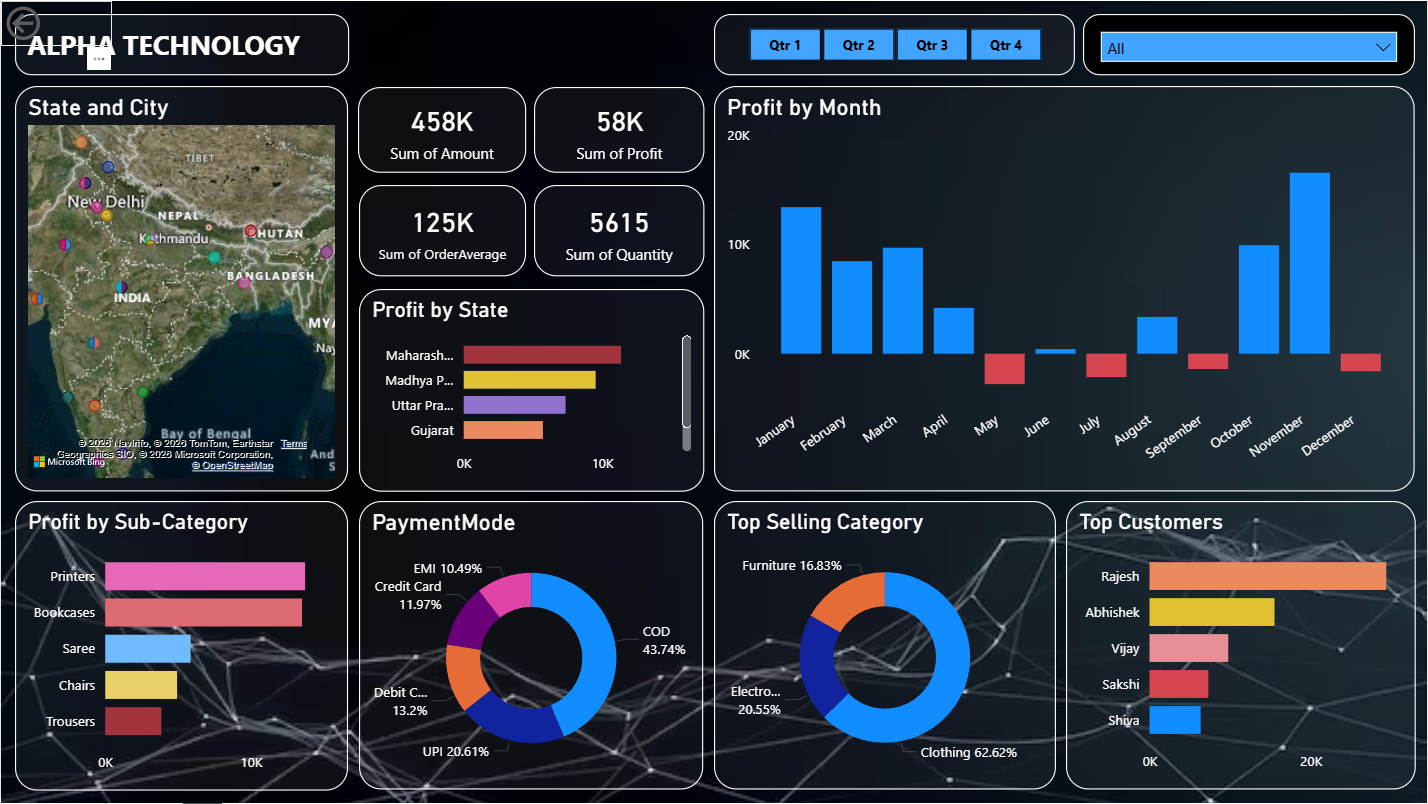

The dashboard page shown, as its layout file describes it:
{"tool":"powerbi","page":{"name":"Page 1","canvas":[1280,720],"ordinal":0},"visuals":[{"type":"columnChart","title":"Profit by Month","fields":{"Category":["Castomer.Order Date.Variation.Date Hierarchy.Month"],"Y":["Sum(Orderss.Profit)"]},"box":[640.5,76.1,629.5,364.4],"z":0},{"type":"barChart","title":"Top Customers","fields":{"Category":["Castomer.CustomerName"],"Y":["Sum(Orderss.Amount)"]},"box":[955.8,449.1,314.1,258.9],"z":1000},{"type":"donutChart","title":"Top Selling Category","fields":{"Category":["Orderss.Category"],"Y":["Sum(Orderss.Quantity)"]},"box":[640.5,449.1,306.8,258.9],"z":2000},{"type":"donutChart","title":"PaymentMode","fields":{"Category":["Orderss.PaymentMode"],"Y":["Sum(Orderss.Quantity)"]},"box":[321.5,449.1,309.2,258.9],"z":3000},{"type":"barChart","title":"Profit by Sub-Category","fields":{"Category":["Orderss.Sub-Category"],"Y":["Sum(Orderss.Profit)"]},"box":[12.3,449.1,299.4,260.1],"z":4000},{"type":"barChart","title":"Profit by State","fields":{"Category":["Castomer.State"],"Y":["Sum(Orderss.Profit)"]},"box":[321.5,258.9,310.4,181.6],"z":5000},{"type":"map","fields":{"Category":["Castomer.State"],"Series":["Castomer.City"]},"box":[12.3,76.1,299.4,364.4],"z":6000},{"type":"textbox","box":[12.3,11.9,299.5,54.8],"z":7000},{"type":"card","fields":{"Values":["Sum(Orderss.Amount)"]},"box":[320.2,77.3,150.9,77.3],"z":8000},{"type":"card","fields":{"Values":["Sum(Orderss.OrderAverage)"]},"box":[321.1,165.5,150,82.4],"z":9000},{"type":"card","fields":{"Values":["Sum(Orderss.Quantity)"]},"box":[478.9,165.5,152.8,82.4],"z":10000},{"type":"card","fields":{"Values":["Sum(Orderss.Profit)"]},"box":[478.5,77.3,153.4,77.3],"z":11000},{"type":"slicer","fields":{"Values":["Castomer.Order Date.Variation.Date Hierarchy.Quarter"]},"box":[640.2,11.9,324.2,54.8],"z":12000},{"type":"slicer","fields":{"Values":["Castomer.State"]},"box":[971.7,11.9,298.2,54.8],"z":13000},{"type":"actionButton","box":[0,0,100,40],"z":14000}]}

Visuals, with their boxes in screenshot pixels (x1, y1, x2, y2), scaled from the page's 1280x720 canvas onto the 1428x804 screenshot:
"Profit by Month" columnChart: 715,85,1417,492
"Top Customers" barChart: 1066,501,1417,791
"Top Selling Category" donutChart: 715,501,1057,791
"PaymentMode" donutChart: 359,501,704,791
"Profit by Sub-Category" barChart: 14,501,348,792
"Profit by State" barChart: 359,289,705,492
map - Castomer.State x Castomer.City: 14,85,348,492
textbox: 14,13,348,74
card - Sum(Orderss.Amount): 357,86,526,173
card - Sum(Orderss.OrderAverage): 358,185,526,277
card - Sum(Orderss.Quantity): 534,185,705,277
card - Sum(Orderss.Profit): 534,86,705,173
slicer - Castomer.Order Date.Variation.Date Hierarchy.Quarter: 714,13,1076,74
slicer - Castomer.State: 1084,13,1417,74
actionButton: 0,0,112,45
